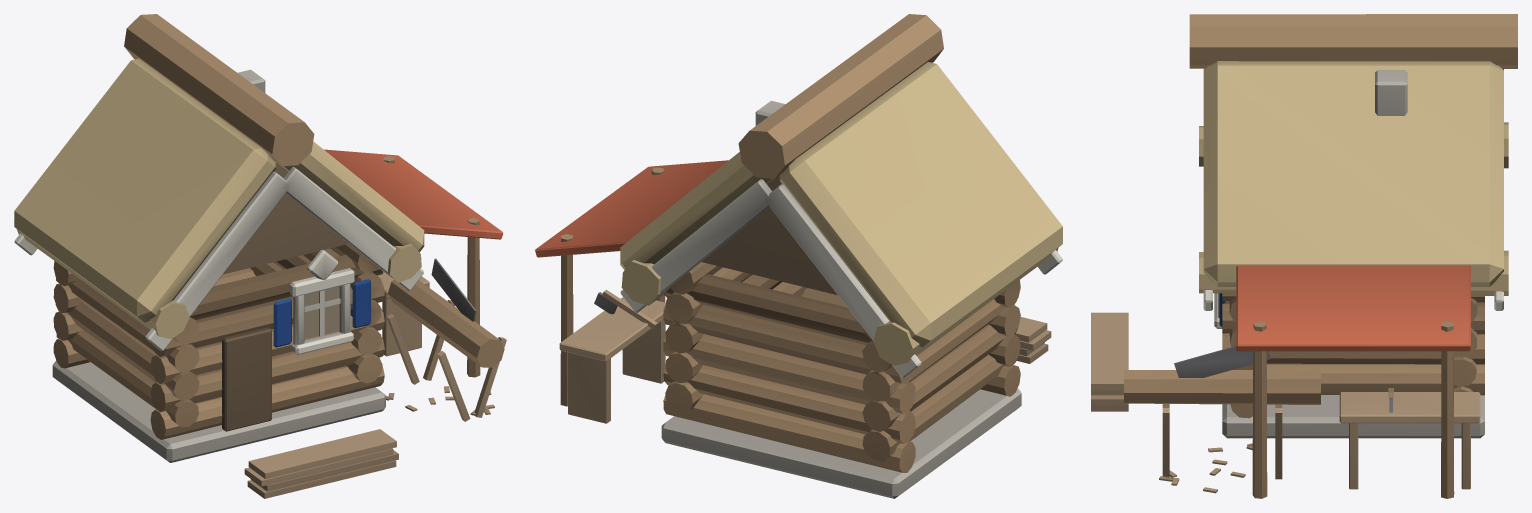
Rendered from bld_izba_plotnika.glb.
3 renders of one model, left to right at view 1: azimuth 30°, elevation 25°; view 2: azimuth 150°, elevation 25°; view 3: azimuth 270°, elevation 25°, orthographic. The views are drawn at different scales.
Parts seen in each view (by area): view 1: izba_plotnika; view 2: izba_plotnika; view 3: izba_plotnika.
Part boxes in pixels (x1,y1,x2,y2): izba_plotnika: (14,14,506,498); izba_plotnika: (535,14,1062,498); izba_plotnika: (1091,14,1517,498).
Bounding box in the file's own units: 1.03 × 0.8631 × 0.91.
